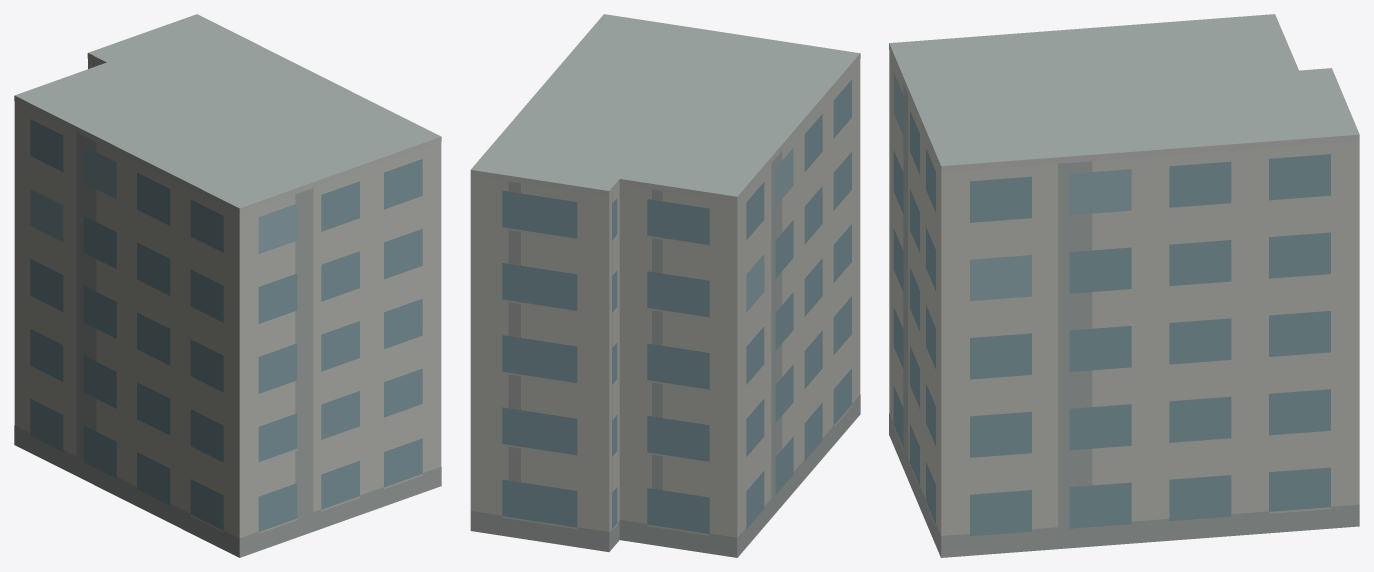
File: residential-0f5db576-4aa3-481e-9c71-654210fc5241.glb
3 renders of one model, left to right at view 1: azimuth 30°, elevation 25°; view 2: azimuth 150°, elevation 25°; view 3: azimuth 270°, elevation 25°, orthographic. The views are drawn at different scales.
Visible parts, largest first — view 1: residential-0f5db576-4aa3-481e-9c71-654210fc5241.tmp; view 2: residential-0f5db576-4aa3-481e-9c71-654210fc5241.tmp; view 3: residential-0f5db576-4aa3-481e-9c71-654210fc5241.tmp.
Part boxes in pixels (box(x1,y1,x2,y2)): residential-0f5db576-4aa3-481e-9c71-654210fc5241.tmp: box(14, 14, 441, 557); residential-0f5db576-4aa3-481e-9c71-654210fc5241.tmp: box(470, 14, 860, 557); residential-0f5db576-4aa3-481e-9c71-654210fc5241.tmp: box(889, 14, 1359, 557).
Bounding box in the file's own units: 12.5 × 15 × 16.34.
